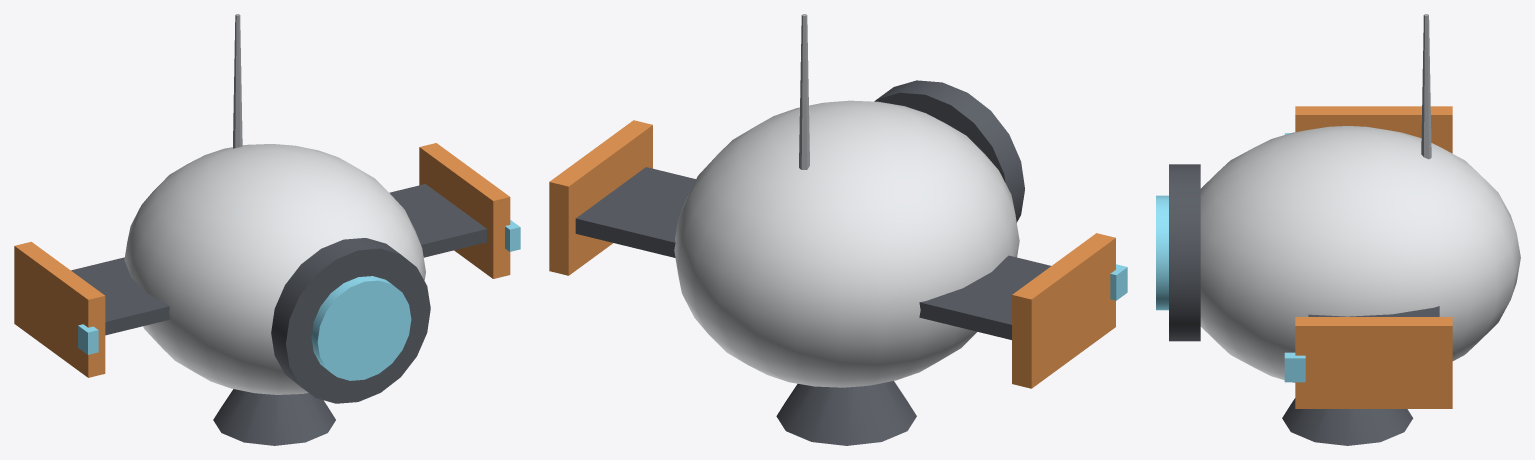
File: drone.fbx
3 views of the same model, side by side, from view 1: azimuth 30°, elevation 25°; view 2: azimuth 150°, elevation 25°; view 3: azimuth 270°, elevation 25° (orthographic). The views are drawn at different scales.
Visible parts, largest first — view 1: Body; view 2: Body; view 3: Body.
Boxes of the visible parts, x1,y1,x2,y2 form: Body: (14,14,520,445); Body: (549,14,1127,445); Body: (1156,14,1520,445).
Size of the model in its own units: 2.03 by 1.69 by 1.39.
